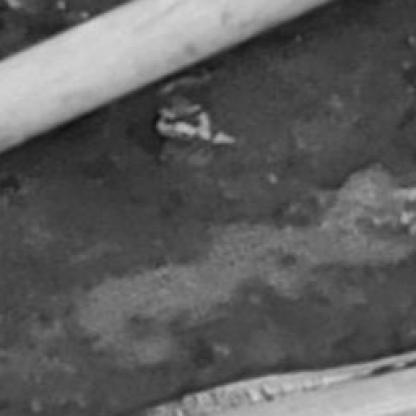PVC: (2, 5, 321, 154)
